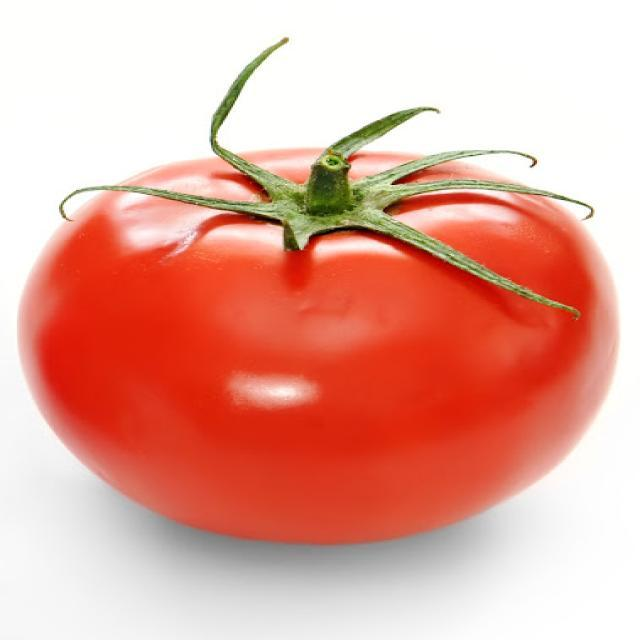kirmizi: (20, 136, 624, 558)
